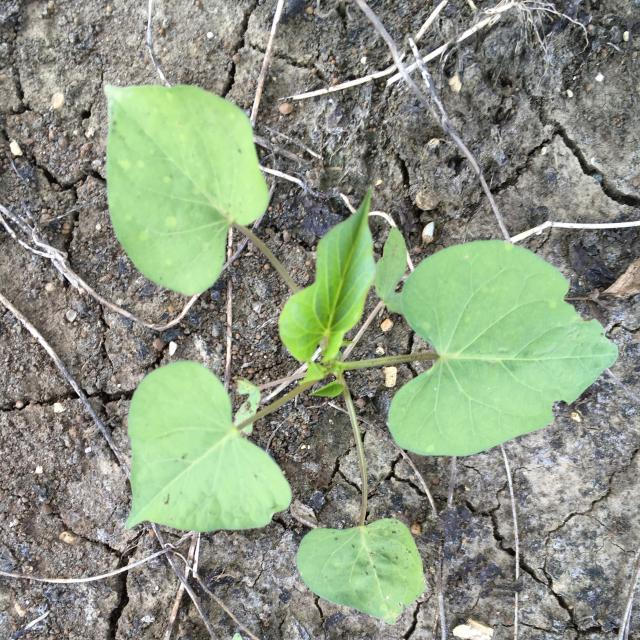MorningGlory: (104, 84, 620, 626)
